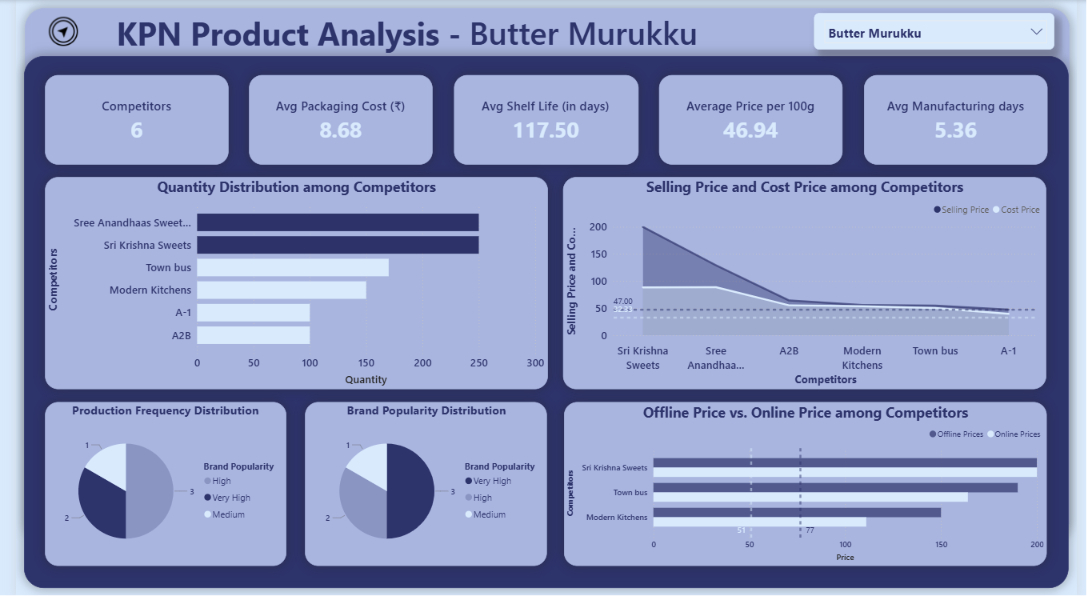

The page's visual inventory and layout, read from the dashboard file:
{"tool":"powerbi","page":{"name":"Product Analysis","canvas":[1600,900],"ordinal":0},"visuals":[{"type":"shape","box":[13.3,11.7,1575,803.3],"z":0},{"type":"shape","box":[12.5,85,1575,802.5],"z":1000},{"type":"shape","box":[825.8,606.7,728.3,247.5],"z":2000},{"type":"shape","box":[436,606,365,247],"z":3000},{"type":"shape","box":[1278.3,113.3,276.7,135],"z":4000},{"type":"shape","box":[970,113.3,276.7,135],"z":5000},{"type":"shape","box":[660,113,278,135],"z":6000},{"type":"shape","box":[43.3,113.3,276.7,135],"z":7000},{"type":"shape","box":[352,113,277,135],"z":8000},{"type":"shape","box":[43.3,266.7,758.3,320],"z":9000},{"type":"shape","box":[43.1,606.2,364.4,247.5],"z":10000},{"type":"shape","box":[825.5,266.4,729.1,320],"z":11000},{"type":"cardVisual","fields":{"Data":["Avg(Package_Details.Packaging_Cost (₹))"]},"box":[352.1,113.3,276.7,135],"z":12000},{"type":"cardVisual","fields":{"Data":["Count(Competitor_Details.Competitor_ID)"]},"box":[43.3,113.3,276.7,135],"z":13000},{"type":"cardVisual","fields":{"Data":["Avg(Product_Details.Shelf_Life_Days)"]},"box":[660.8,113.3,276.7,135],"z":14000},{"type":"cardVisual","fields":{"Data":["Avg(Product_Price_Details.Price_per_100g)"]},"box":[969.6,113.3,276.7,135],"z":15000},{"type":"cardVisual","fields":{"Data":["Avg(Package_Details.Lead_Time_Days)"]},"box":[1278.3,113.3,276.7,135],"z":16000},{"type":"clusteredBarChart","title":"Quantity Distribution among Competitors","fields":{"Category":["Competitor_Details.Competitor_Name"],"Y":["Sum(Product_Details.Quantity_grams)"]},"box":[43.3,266.7,758.3,320],"z":17000},{"type":"pieChart","title":"Production Frequency Distribution","fields":{"Category":["Product_Details.Production_Frequency"],"Y":["CountNonNull(Competitor_Details.Competitor_Name)"]},"box":[43.3,606.7,363.3,246.7],"z":18000},{"type":"pieChart","title":"Brand Popularity Distribution","fields":{"Category":["Competitor_Details.Brand_Popularity"],"Y":["CountNonNull(Competitor_Details.Competitor_Name)"]},"box":[436.7,606.7,363.3,246.7],"z":19000},{"type":"areaChart","title":"Selling Price and Cost Price among Competitors","fields":{"Category":["Competitor_Details.Competitor_Name"],"Y":["Avg(Product_Price_Details.Selling_Price)","Avg(Product_Price_Details.Cost_Price)"]},"box":[825.5,266.4,729.1,320],"z":20000},{"type":"clusteredBarChart","title":"Offline Price vs. Online Price among Competitors","fields":{"Category":["Competitor_Details.Competitor_Name"],"Y":["Sum(Product_Price_Details.Offline_Price)","Sum(Product_Price_Details.Online_Price)"]},"box":[825.8,606.7,728.3,246.7],"z":21000},{"type":"textbox","box":[146.7,11.7,543.3,88.3],"z":22000},{"type":"cardVisual","title":"fff","fields":{"Data":["Min(Product_Details.Snack_Name_1)"]},"box":[660,0,430,101.7],"z":23000},{"type":"slicer","fields":{"Values":["Product_Details.Snack_Name_1"]},"box":[1203.5,19.5,362,55],"z":24000},{"type":"actionButton","box":[43.3,20,57.8,55.6],"z":25000}]}

Visuals, with their boxes in screenshot pixels (x1, y1, x2, y2), scaled from the page's 1600x900 canvas onto the 1087x596 screenshot:
shape: {"x1": 9, "y1": 8, "x2": 1079, "y2": 540}
shape: {"x1": 8, "y1": 56, "x2": 1079, "y2": 588}
shape: {"x1": 561, "y1": 402, "x2": 1056, "y2": 566}
shape: {"x1": 296, "y1": 401, "x2": 544, "y2": 565}
shape: {"x1": 868, "y1": 75, "x2": 1056, "y2": 164}
shape: {"x1": 659, "y1": 75, "x2": 847, "y2": 164}
shape: {"x1": 448, "y1": 75, "x2": 637, "y2": 164}
shape: {"x1": 29, "y1": 75, "x2": 217, "y2": 164}
shape: {"x1": 239, "y1": 75, "x2": 427, "y2": 164}
shape: {"x1": 29, "y1": 177, "x2": 545, "y2": 389}
shape: {"x1": 29, "y1": 401, "x2": 277, "y2": 565}
shape: {"x1": 561, "y1": 176, "x2": 1056, "y2": 388}
cardVisual - Avg(Package_Details.Packaging_Cost (₹)): {"x1": 239, "y1": 75, "x2": 427, "y2": 164}
cardVisual - Count(Competitor_Details.Competitor_ID): {"x1": 29, "y1": 75, "x2": 217, "y2": 164}
cardVisual - Avg(Product_Details.Shelf_Life_Days): {"x1": 449, "y1": 75, "x2": 637, "y2": 164}
cardVisual - Avg(Product_Price_Details.Price_per_100g): {"x1": 659, "y1": 75, "x2": 847, "y2": 164}
cardVisual - Avg(Package_Details.Lead_Time_Days): {"x1": 868, "y1": 75, "x2": 1056, "y2": 164}
"Quantity Distribution among Competitors" clusteredBarChart: {"x1": 29, "y1": 177, "x2": 545, "y2": 389}
"Production Frequency Distribution" pieChart: {"x1": 29, "y1": 402, "x2": 276, "y2": 565}
"Brand Popularity Distribution" pieChart: {"x1": 297, "y1": 402, "x2": 544, "y2": 565}
"Selling Price and Cost Price among Competitors" areaChart: {"x1": 561, "y1": 176, "x2": 1056, "y2": 388}
"Offline Price vs. Online Price among Competitors" clusteredBarChart: {"x1": 561, "y1": 402, "x2": 1056, "y2": 565}
textbox: {"x1": 100, "y1": 8, "x2": 469, "y2": 66}
"fff" cardVisual: {"x1": 448, "y1": 0, "x2": 741, "y2": 67}
slicer - Product_Details.Snack_Name_1: {"x1": 818, "y1": 13, "x2": 1064, "y2": 49}
actionButton: {"x1": 29, "y1": 13, "x2": 69, "y2": 50}
